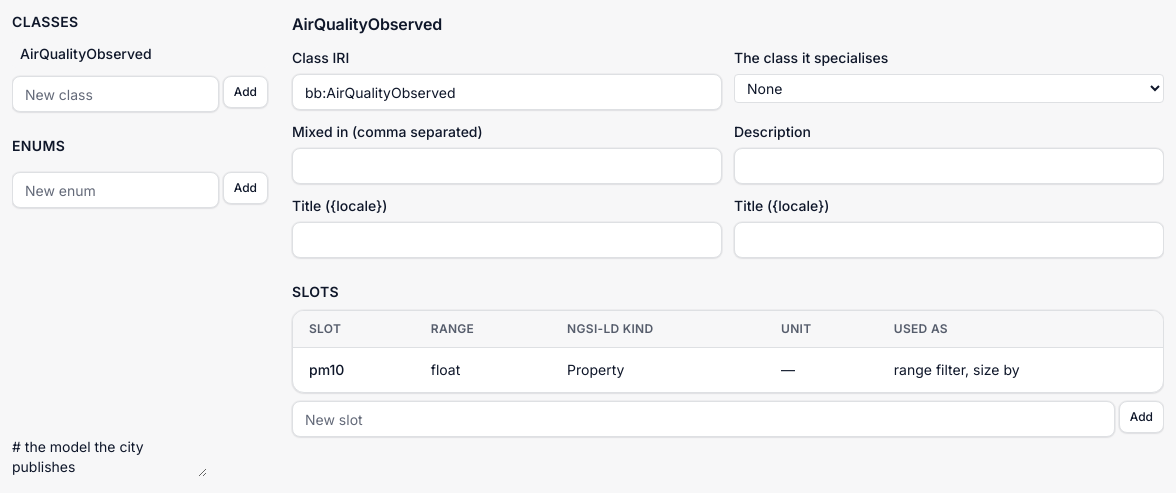
LinkML visual editor › creates a class, and the YAML keeps the comment that was already there
The image size is (1176, 493).
Type "WeatherObserved" into the field labelled "New class" at (115,94), box [12,76,219,112]
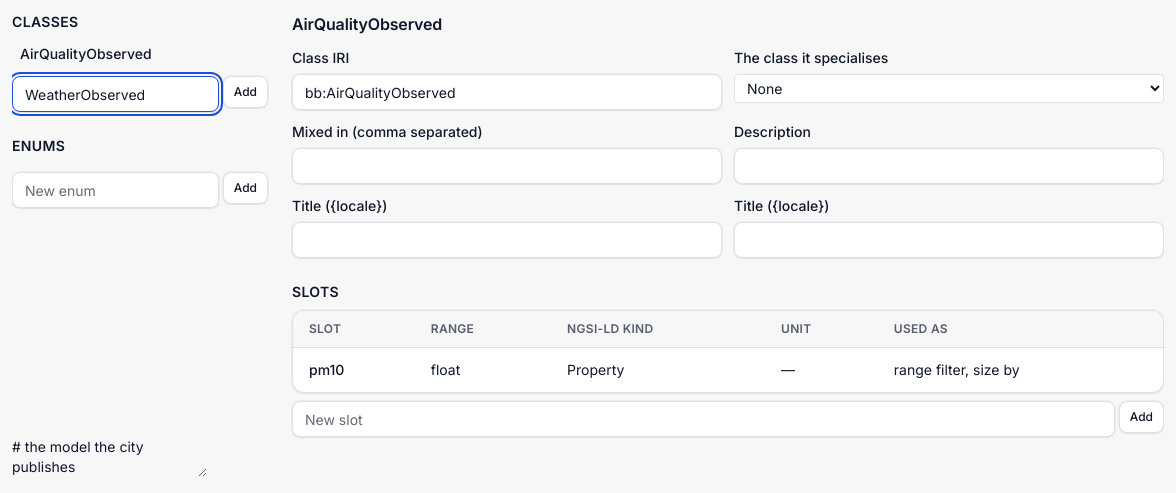
Click the button with aria-label "Add class" at (245,92), box [223,76,268,108]
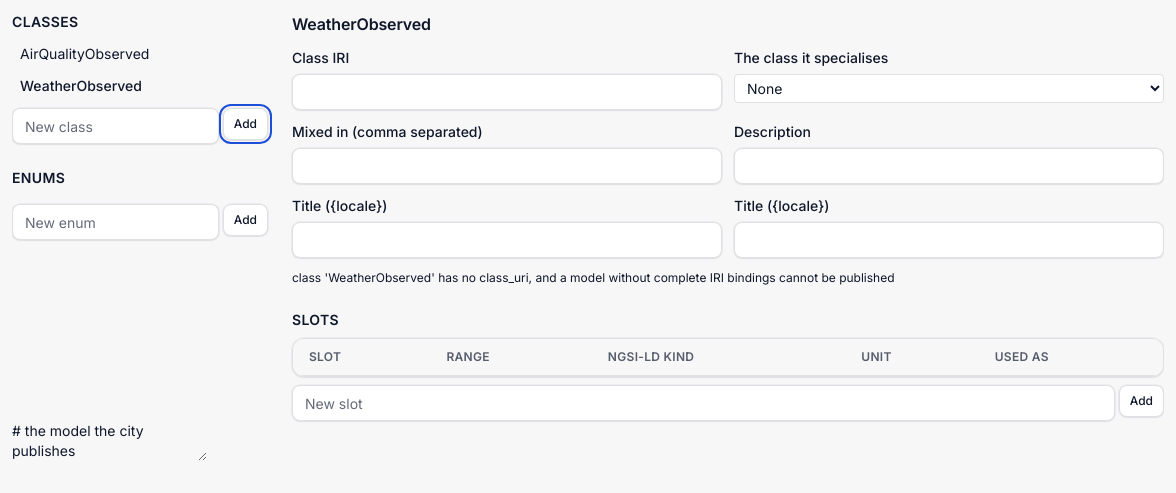
Check: the button "WeatherObserved" is shown, box [12,72,268,100]
